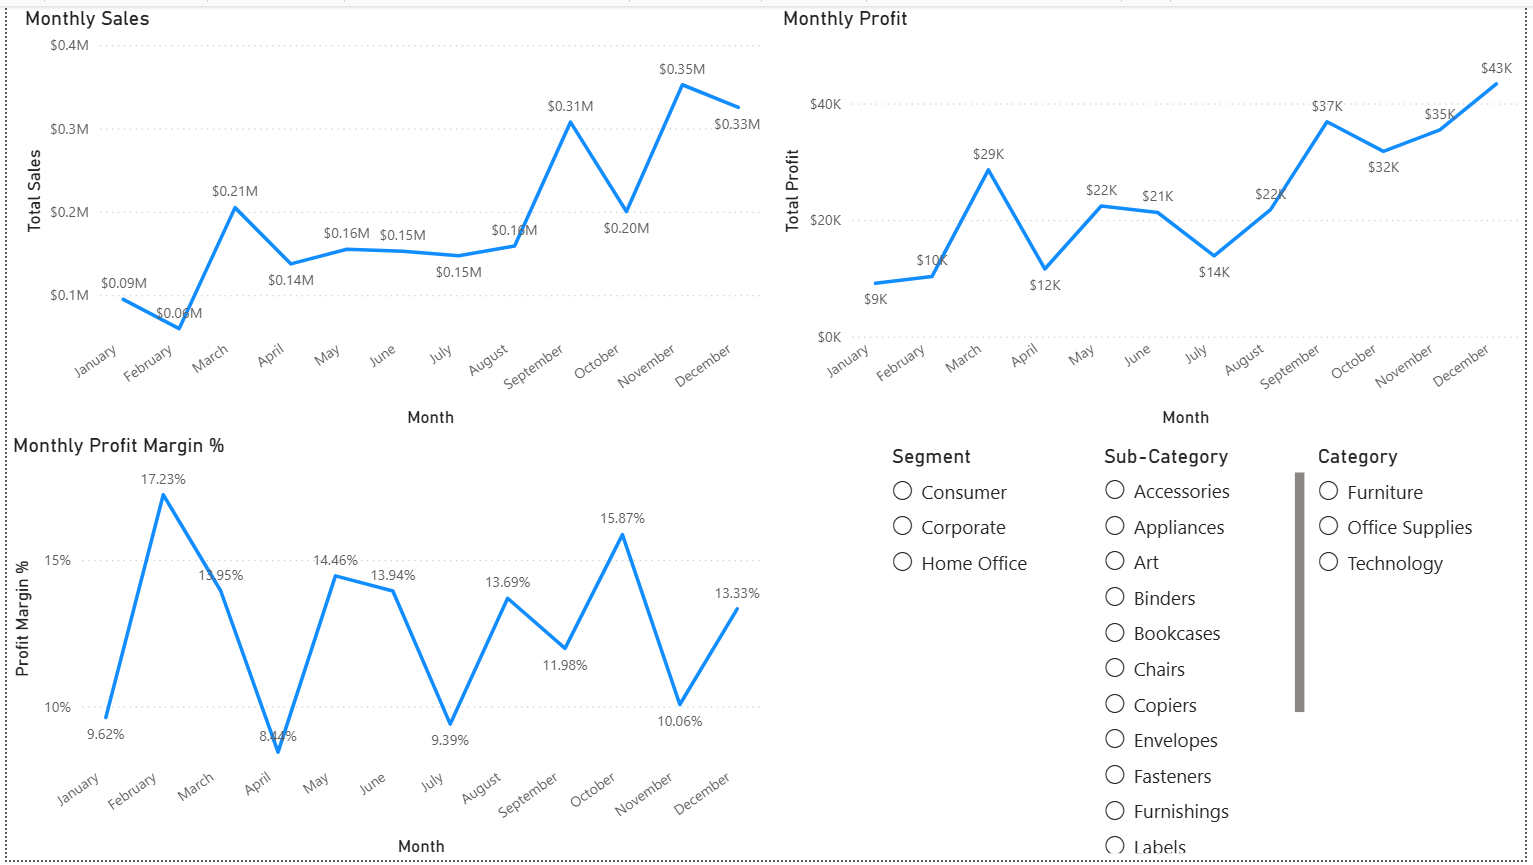

This screenshot's page, from the dashboard's own definition file:
{"tool":"powerbi","page":{"name":"Monthly Performance","canvas":[1280,720],"ordinal":3},"visuals":[{"type":"lineChart","title":"Monthly Sales","fields":{"Category":["RawData.MonthName"],"Y":["Sum(RawData.Sales)"]},"box":[9.7,0,630.3,359.9],"z":0},{"type":"lineChart","title":"Monthly Profit","fields":{"Y":["Sum(RawData.Profit)"],"Category":["RawData.MonthName"]},"box":[649.5,0,630.5,359.7],"z":1000},{"type":"lineChart","title":"Monthly Profit Margin %","fields":{"Category":["RawData.MonthName"],"Y":["RawData.Profit Margin %"]},"box":[0,359.9,640,360.9],"z":2000},{"type":"listSlicer","fields":{"Values":["RawData.Sub-Category"]},"box":[920.1,369.6,179.9,350.2],"z":3000},{"type":"listSlicer","fields":{"Values":["RawData.Category"]},"box":[1100.1,369.6,179.9,350.2],"z":4000},{"type":"listSlicer","fields":{"Values":["RawData.Segment"]},"box":[741.2,369.6,179,350.2],"z":5000}]}

Visuals, with their boxes in screenshot pixels (x1, y1, x2, y2), scaled from the page's 1280x720 canvas onto the 1533x865 screenshot:
"Monthly Sales" lineChart: box=[12, 0, 766, 432]
"Monthly Profit" lineChart: box=[778, 0, 1532, 432]
"Monthly Profit Margin %" lineChart: box=[0, 432, 766, 864]
listSlicer - RawData.Sub-Category: box=[1102, 444, 1317, 864]
listSlicer - RawData.Category: box=[1318, 444, 1532, 864]
listSlicer - RawData.Segment: box=[888, 444, 1102, 864]
